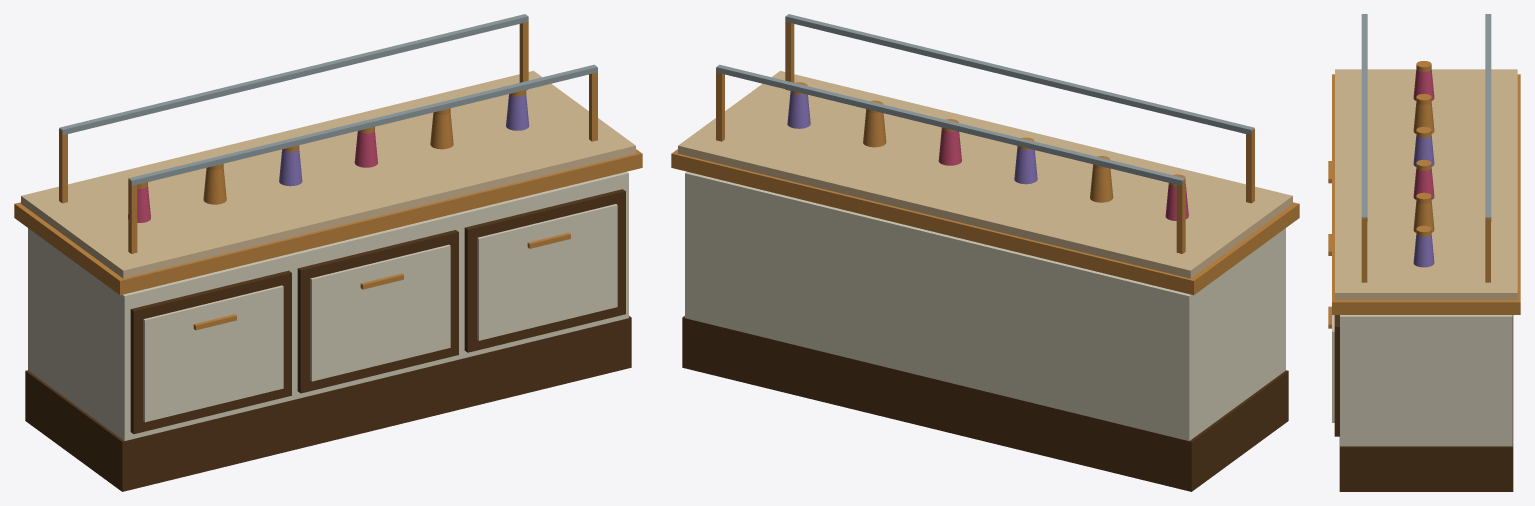
File: mia-dept_counter.glb
3 views of the same model, side by side, from view 1: azimuth 30°, elevation 25°; view 2: azimuth 150°, elevation 25°; view 3: azimuth 270°, elevation 25° (orthographic). The views are drawn at different scales.
Visible parts, largest first — view 1: Body_mattress, Body_wood, Body_ivory, Body_brass, Body_steel, Body_balloon-lilac, Body_balloon-rose; view 2: Body_mattress, Body_ivory, Body_wood, Body_brass, Body_steel, Body_balloon-lilac, Body_balloon-rose; view 3: Body_ivory, Body_mattress, Body_wood, Body_brass, Body_steel, Body_balloon-lilac, Body_balloon-rose.
Boxes of the visible parts, x1,y1,x2,y2 form: Body_mattress: (28,171,628,440); Body_wood: (25,189,631,491); Body_ivory: (21,71,635,278); Body_brass: (14,22,642,330); Body_steel: (59,14,597,185); Body_balloon-lilac: (279,94,529,186); Body_balloon-rose: (128,131,377,222); Body_mattress: (685,171,1285,440); Body_ivory: (678,71,1292,278); Body_wood: (682,316,1288,491); Body_brass: (671,22,1299,295); Body_steel: (716,14,1254,185); Body_balloon-lilac: (787,92,1037,184); Body_balloon-rose: (938,129,1188,220); Body_ivory: (1335,69,1517,299); Body_mattress: (1332,315,1512,446); Body_wood: (1334,315,1513,491); Body_brass: (1328,61,1520,328); Body_steel: (1361,14,1491,221); Body_balloon-lilac: (1413,135,1434,267); Body_balloon-rose: (1413,69,1434,199).
Size of the model in its own units: 2.46 by 1.34 by 0.8785.
